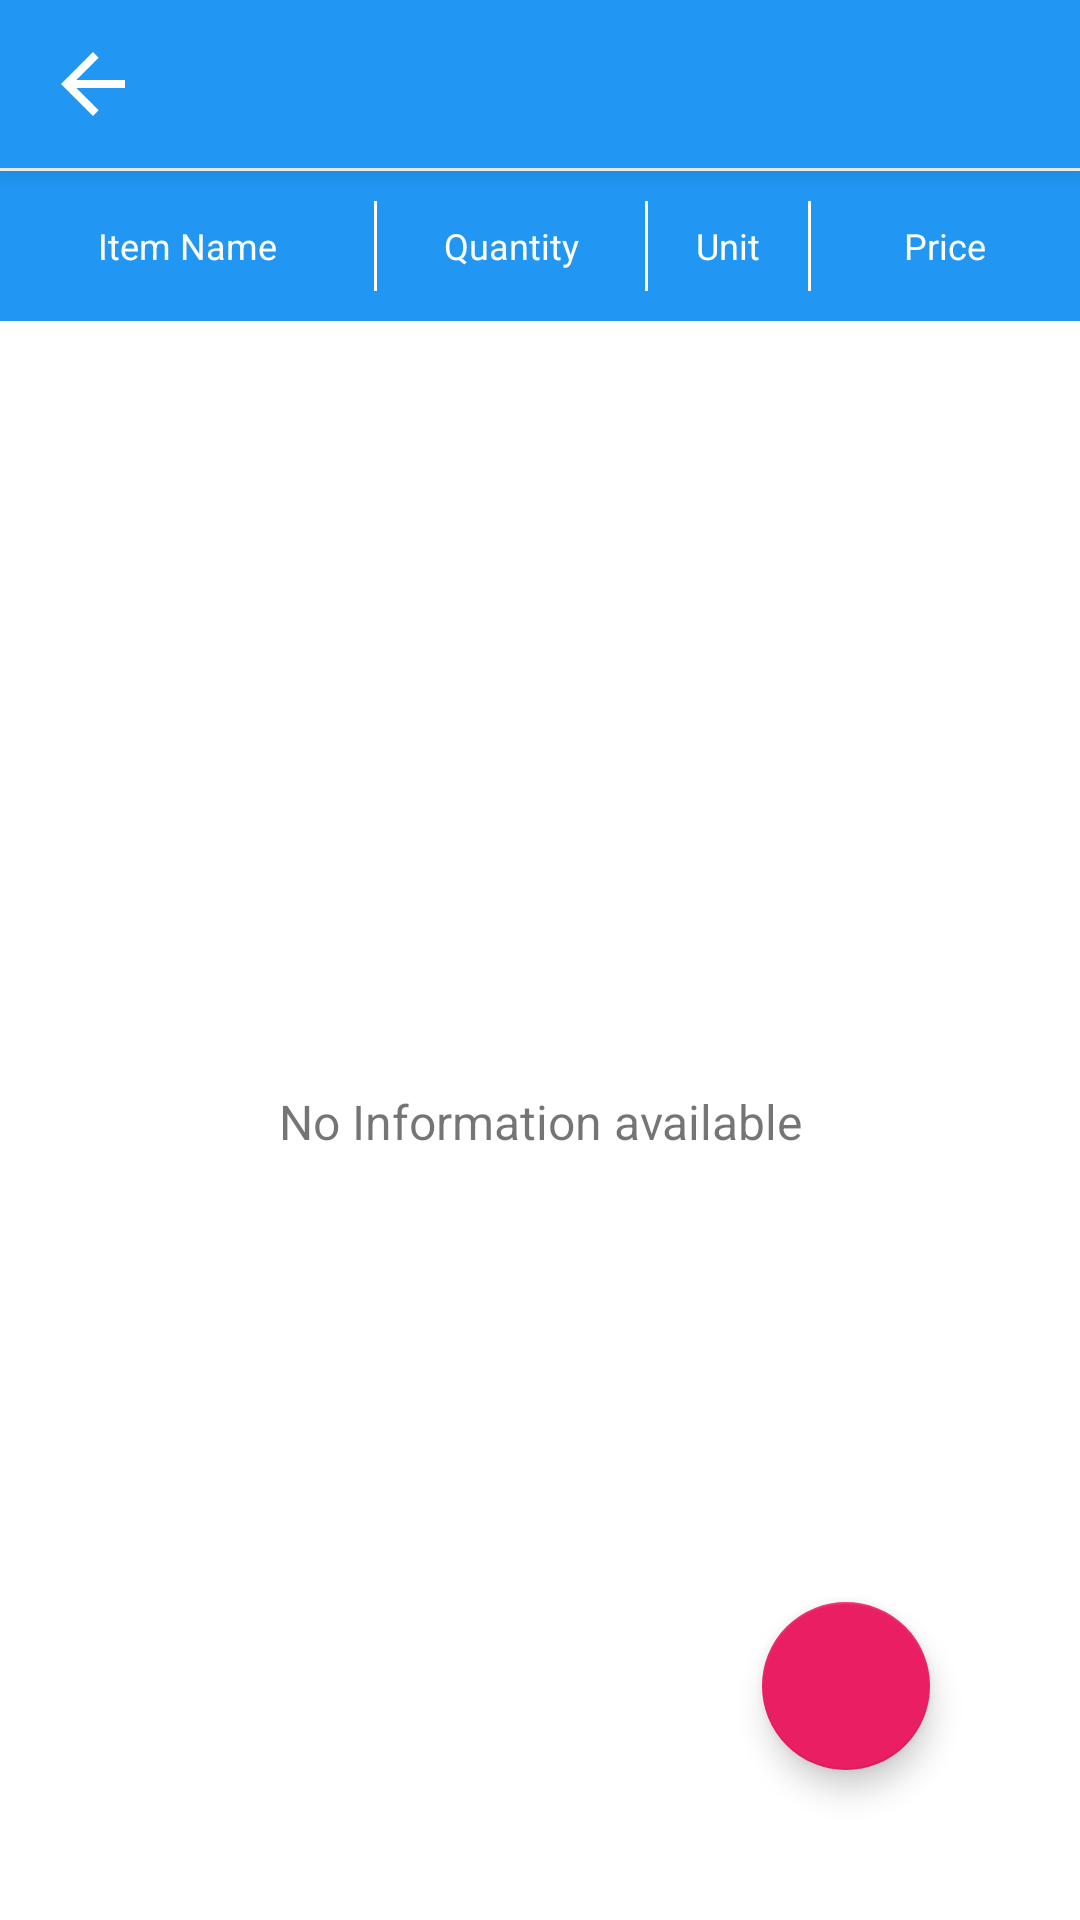

Named icons in this screenshot (1080w x 1920h) and their centers, (x=x, y=y):
arrow back: (x=93, y=84)
